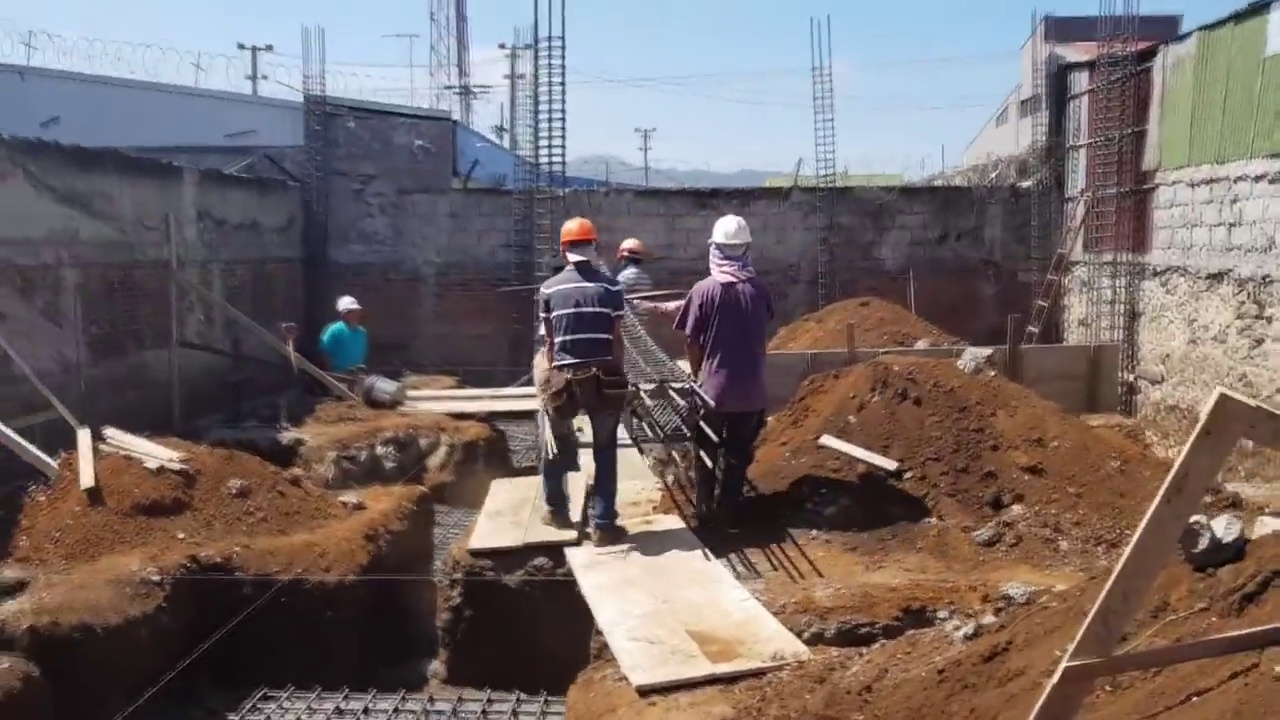helmet: (709, 215, 753, 249), (557, 217, 600, 248), (615, 239, 645, 258), (335, 295, 364, 313)
helmet-on: (710, 216, 754, 283), (557, 217, 598, 272), (618, 240, 649, 275), (334, 297, 364, 331)
person: (529, 217, 643, 566), (668, 204, 774, 526), (314, 291, 365, 372), (613, 234, 655, 309), (1180, 518, 1236, 573)
